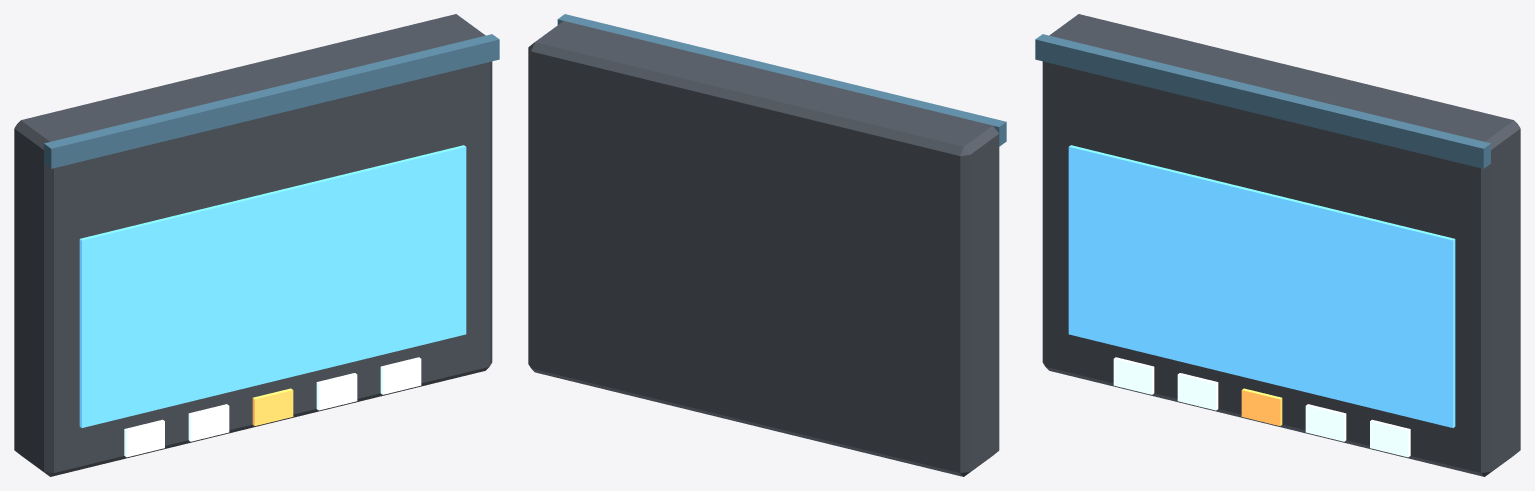
Rendered from spaceship-deck-kit-wall-console-ca153373__12568.glb.
The picture shows the model from 3 angles, left to right: view 1: azimuth 30°, elevation 25°; view 2: azimuth 150°, elevation 25°; view 3: azimuth 330°, elevation 25°; orthographic projection.
Parts seen in each view (by area): view 1: wall-console; view 2: wall-console; view 3: wall-console.
Part boxes in pixels (<box>): wall-console: <box>14,14,499,476</box>; wall-console: <box>528,14,1006,476</box>; wall-console: <box>1035,14,1520,476</box>.
Bounding box in the file's own units: 0.7 × 0.5 × 0.11.
